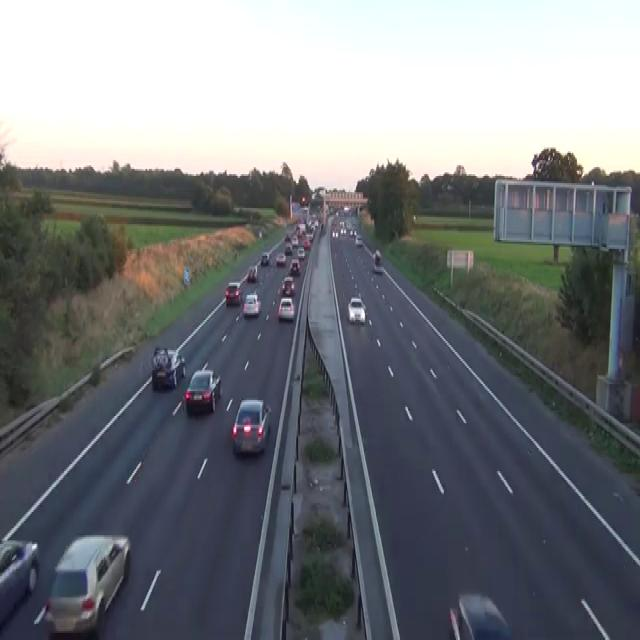Car: (33, 534, 130, 636), (0, 537, 39, 627), (449, 592, 511, 638), (231, 398, 271, 455), (184, 368, 222, 414), (151, 347, 185, 389), (347, 297, 366, 323), (243, 292, 261, 316), (225, 281, 241, 306), (277, 297, 294, 320), (281, 276, 295, 295), (372, 249, 382, 272), (289, 258, 300, 276), (247, 265, 257, 281), (275, 251, 286, 265), (260, 251, 269, 265), (296, 222, 305, 236), (373, 249, 381, 263), (297, 246, 305, 260), (291, 235, 298, 247), (355, 235, 363, 245), (284, 244, 292, 254), (303, 238, 310, 249), (305, 231, 313, 240), (345, 219, 352, 229), (328, 206, 335, 215), (331, 228, 338, 236), (343, 204, 349, 213), (284, 233, 290, 242), (349, 228, 355, 236), (340, 226, 346, 234), (258, 228, 262, 238), (352, 228, 357, 236), (413, 213, 416, 224), (320, 222, 323, 231)
